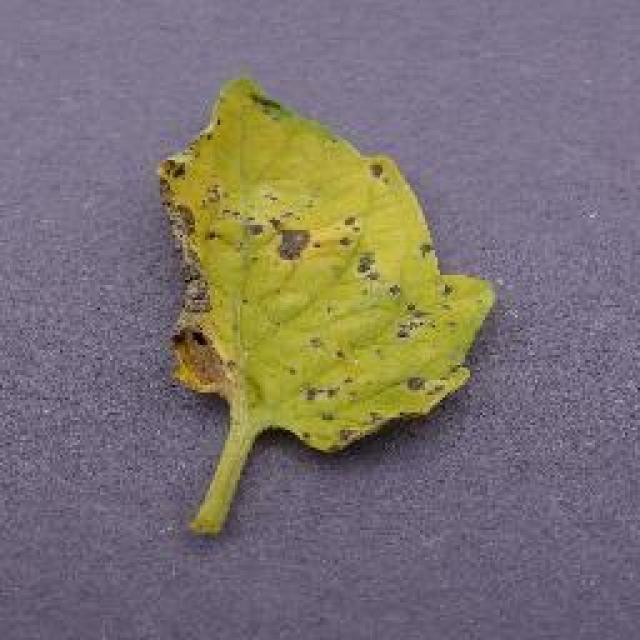Tomato target spot leaf: (149, 79, 491, 454)
